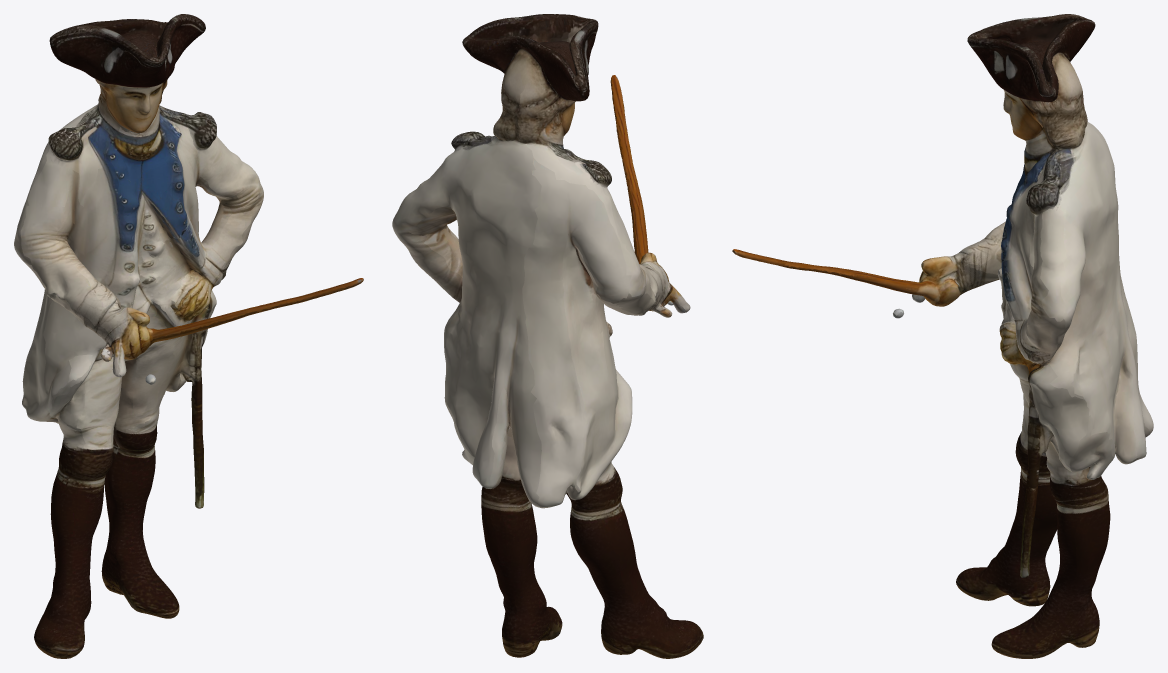
File: AnotherOldDude.glb
3 views of the same model, side by side, from view 1: azimuth 30°, elevation 25°; view 2: azimuth 150°, elevation 25°; view 3: azimuth 270°, elevation 25° (orthographic). The views are drawn at different scales.
Parts seen in each view (by area): view 1: textured_mesh.obj; view 2: textured_mesh.obj; view 3: textured_mesh.obj.
Boxes of the visible parts, box(x1,y1,x2,y2) form: textured_mesh.obj: box(14, 14, 363, 658); textured_mesh.obj: box(392, 14, 703, 658); textured_mesh.obj: box(732, 14, 1153, 658).
Bounding box in the file's own units: 0.9088 × 1.99 × 1.24.
Materials: 1 (1 with a texture image).
